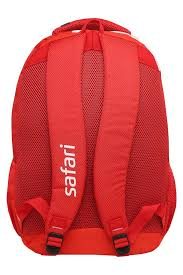backpack: (6, 17, 176, 256)
